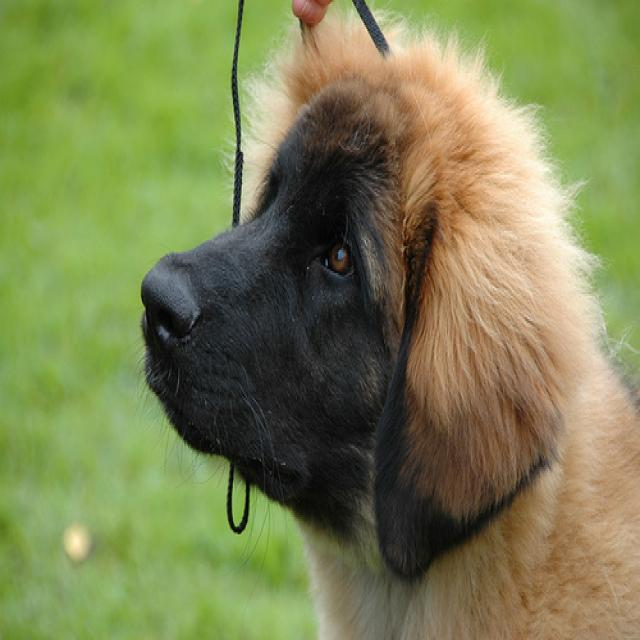dog: (139, 58, 562, 578)
